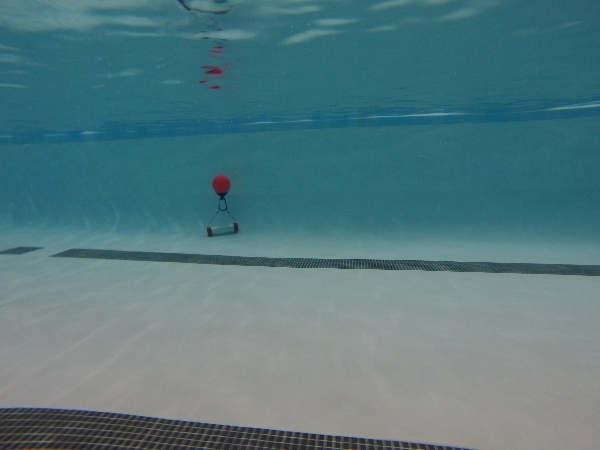buoy_red: (209, 173, 232, 201)
